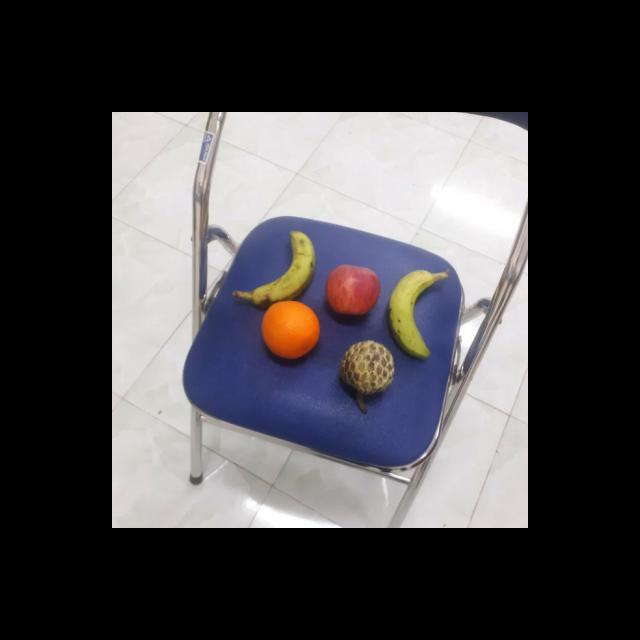Sakya fruit: (338, 340, 398, 397)
apple: (322, 264, 378, 320)
banana: (240, 230, 318, 306), (385, 268, 450, 358)
orange: (258, 299, 318, 363)
